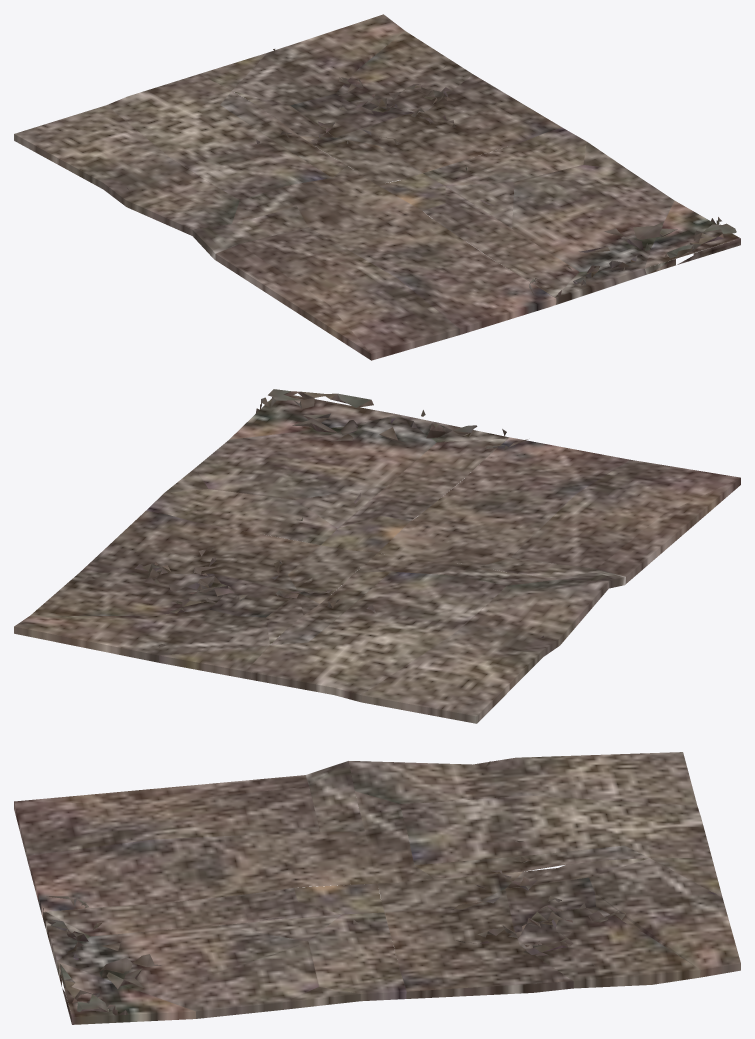
3 views of the same model, one above another, from view 1: azimuth 30°, elevation 25°; view 2: azimuth 150°, elevation 25°; view 3: azimuth 270°, elevation 25° (orthographic). The views are drawn at different scales.
Parts seen in each view (by area): view 1: Mesh_0; view 2: Mesh_0; view 3: Mesh_0.
Boxes of the visible parts, bbox=[...] form: Mesh_0: bbox=[14, 14, 740, 360]; Mesh_0: bbox=[14, 389, 740, 723]; Mesh_0: bbox=[14, 752, 740, 1024].
Size of the model in its own units: 1064 by 74.31 by 1317.
1 material, 1 textured.
